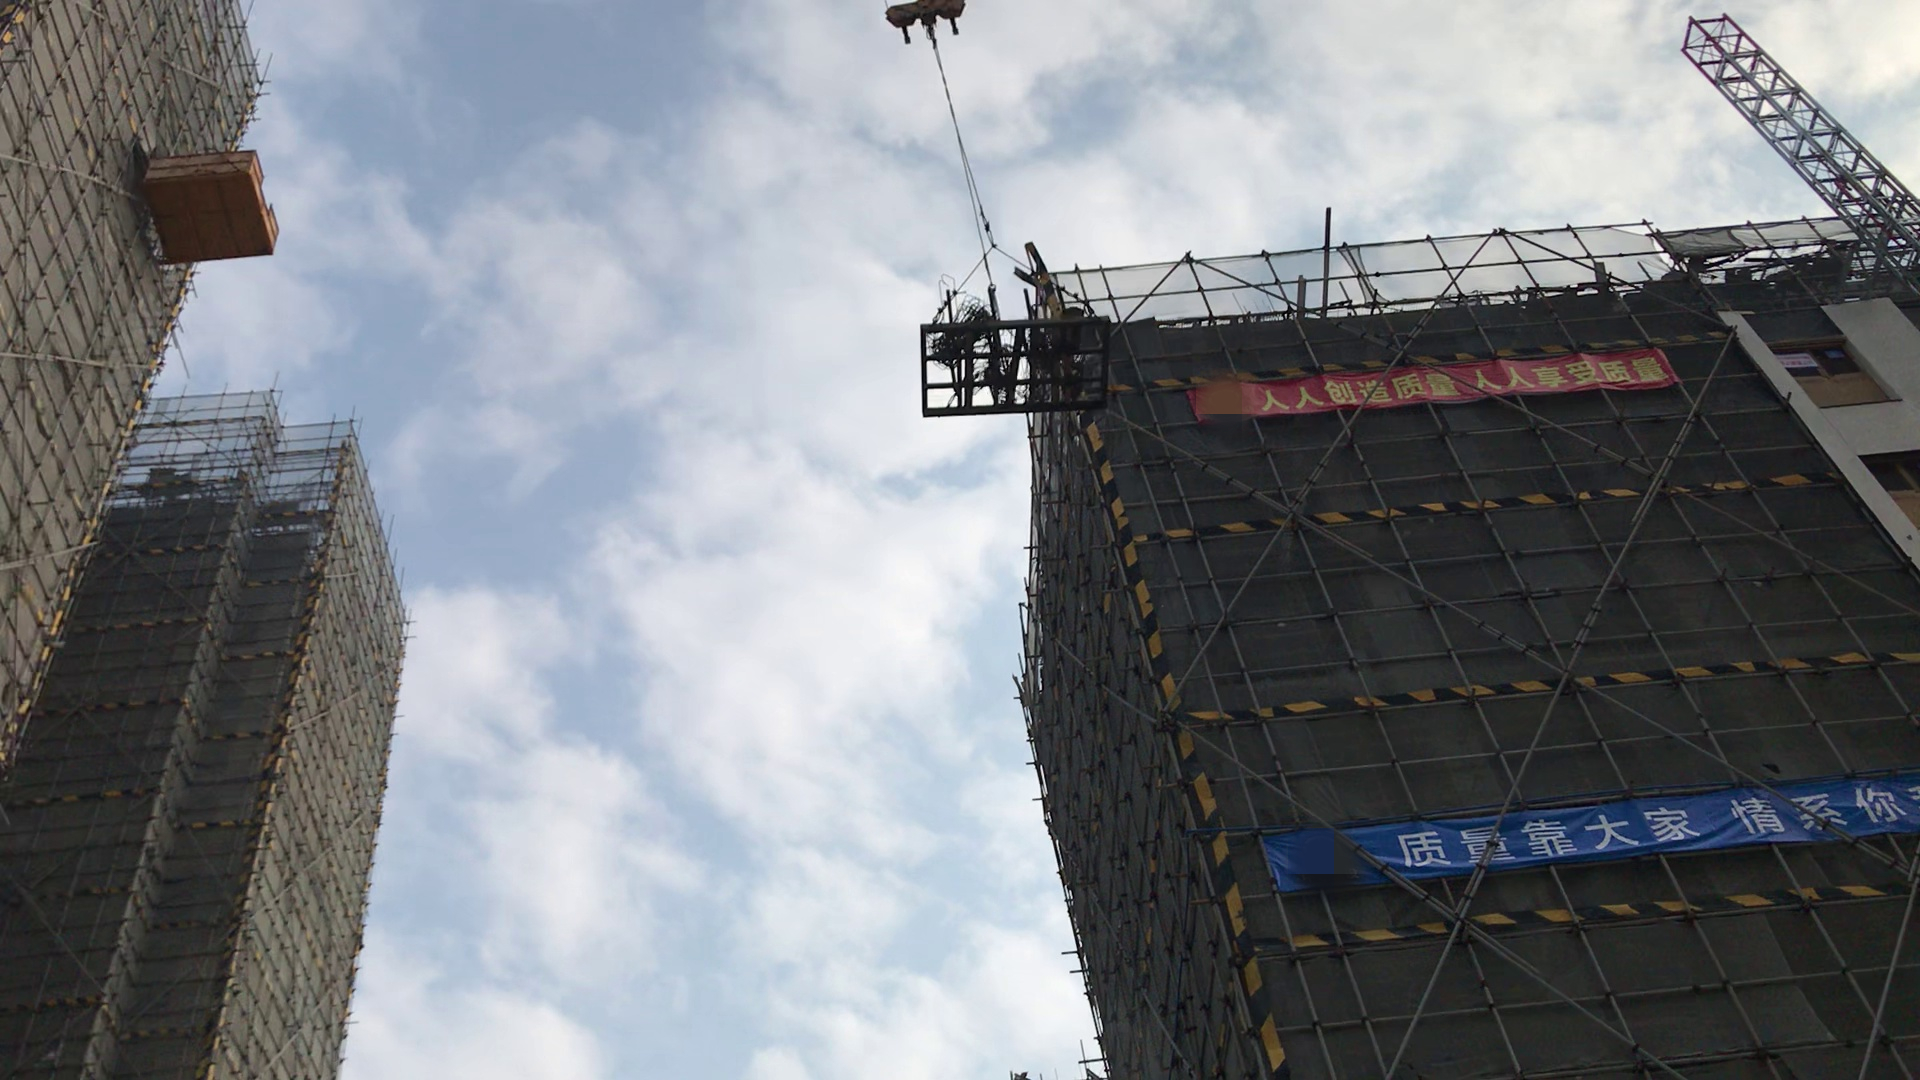hook: (885, 1, 989, 46)
slogan: (1273, 777, 1920, 938), (1185, 335, 1782, 450)
